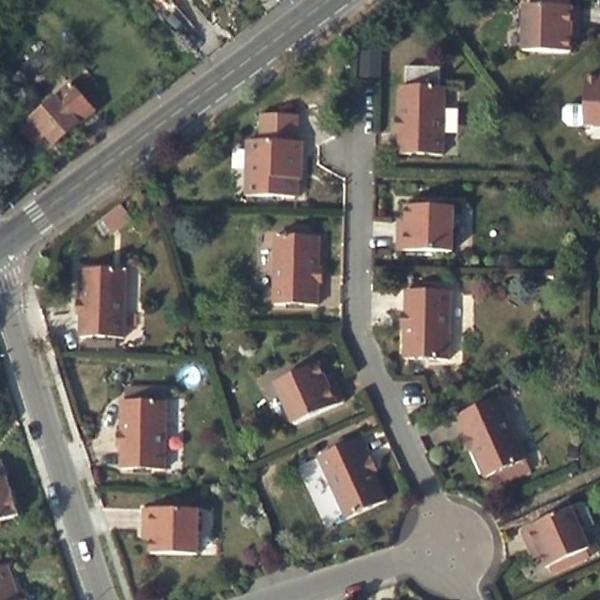Buildings: (242, 110, 305, 194), (320, 434, 388, 511), (264, 228, 325, 309), (112, 405, 174, 483), (457, 404, 520, 475), (398, 66, 448, 155), (398, 286, 450, 364), (75, 266, 127, 339), (530, 514, 593, 570), (270, 364, 336, 416), (143, 504, 204, 560), (400, 204, 456, 256), (520, 4, 570, 49), (35, 93, 89, 131), (577, 73, 600, 134)
